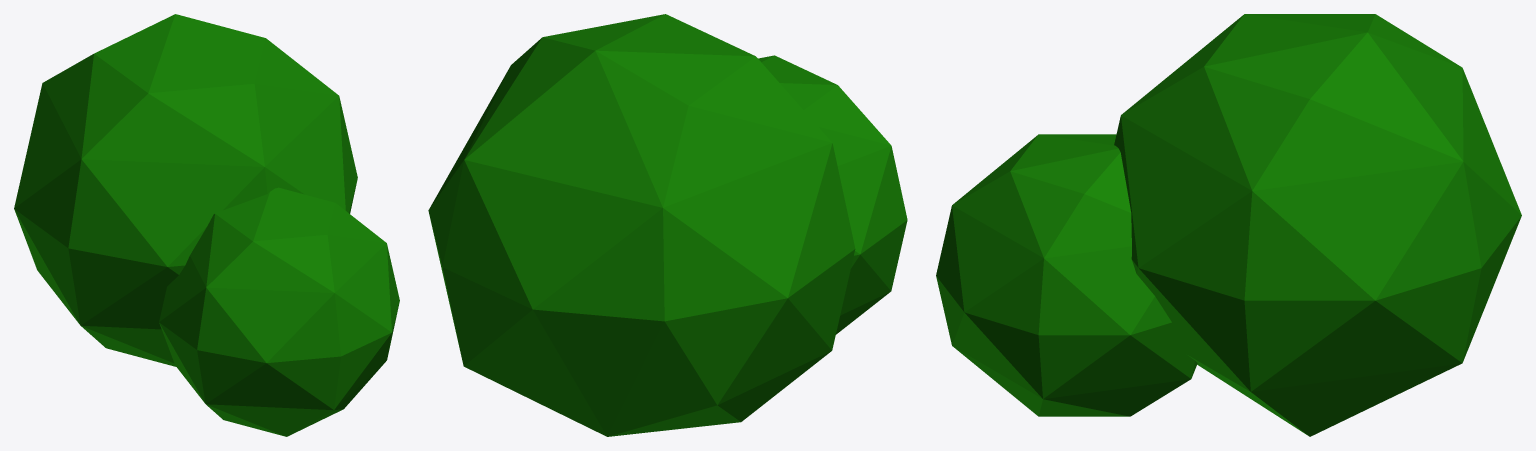
The model's file is Bush1.fbx.
3 renders of one model, left to right at view 1: azimuth 30°, elevation 25°; view 2: azimuth 150°, elevation 25°; view 3: azimuth 270°, elevation 25°, orthographic. The views are drawn at different scales.
Visible parts, largest first — view 1: Icosphere, Icosphere.001; view 2: Icosphere, Icosphere.001; view 3: Icosphere, Icosphere.001.
Boxes of the visible parts, <box> form: Icosphere: <box>14,14,357,366</box>; Icosphere.001: <box>159,187,399,436</box>; Icosphere: <box>428,14,855,436</box>; Icosphere.001: <box>758,55,907,334</box>; Icosphere: <box>1114,14,1521,436</box>; Icosphere.001: <box>936,134,1197,416</box>.
Size of the model in its own units: 2855 by 3007 by 4149.
